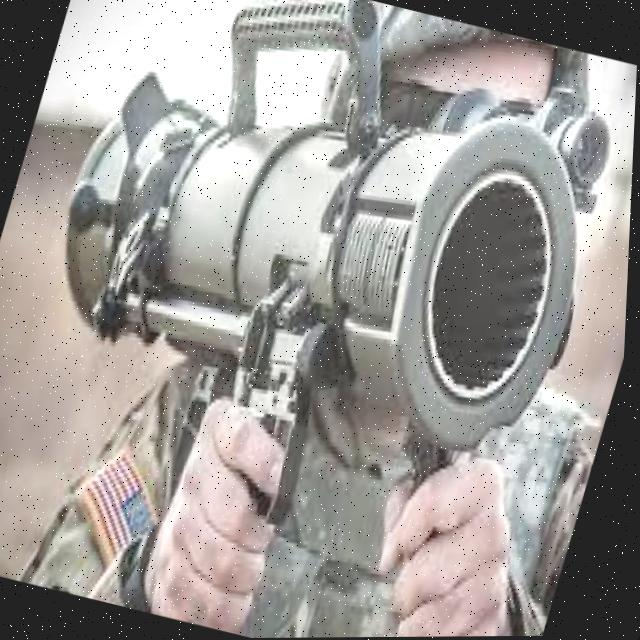rocket: (0, 0, 640, 532)
